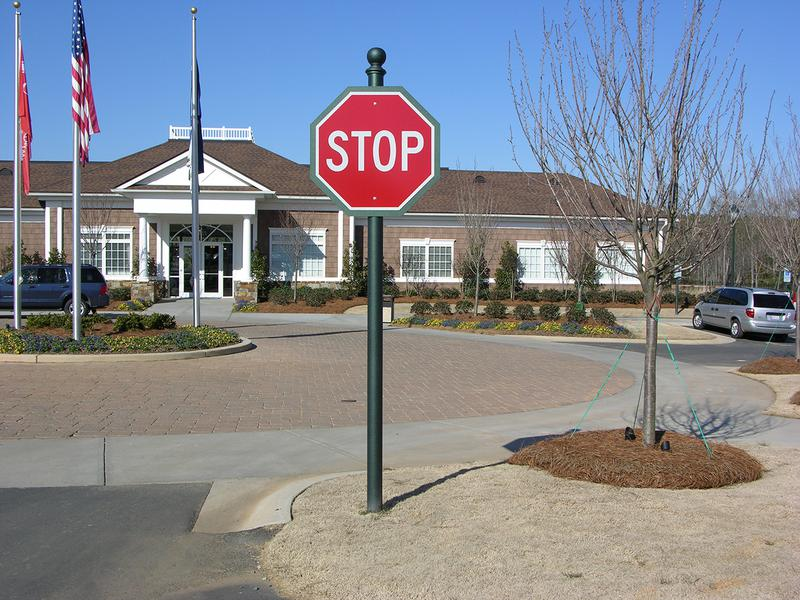stop: (307, 84, 441, 214)
